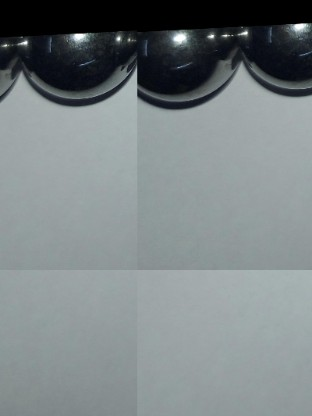ironball: (134, 30, 244, 110), (18, 33, 139, 103), (244, 24, 310, 93), (0, 33, 21, 96)
